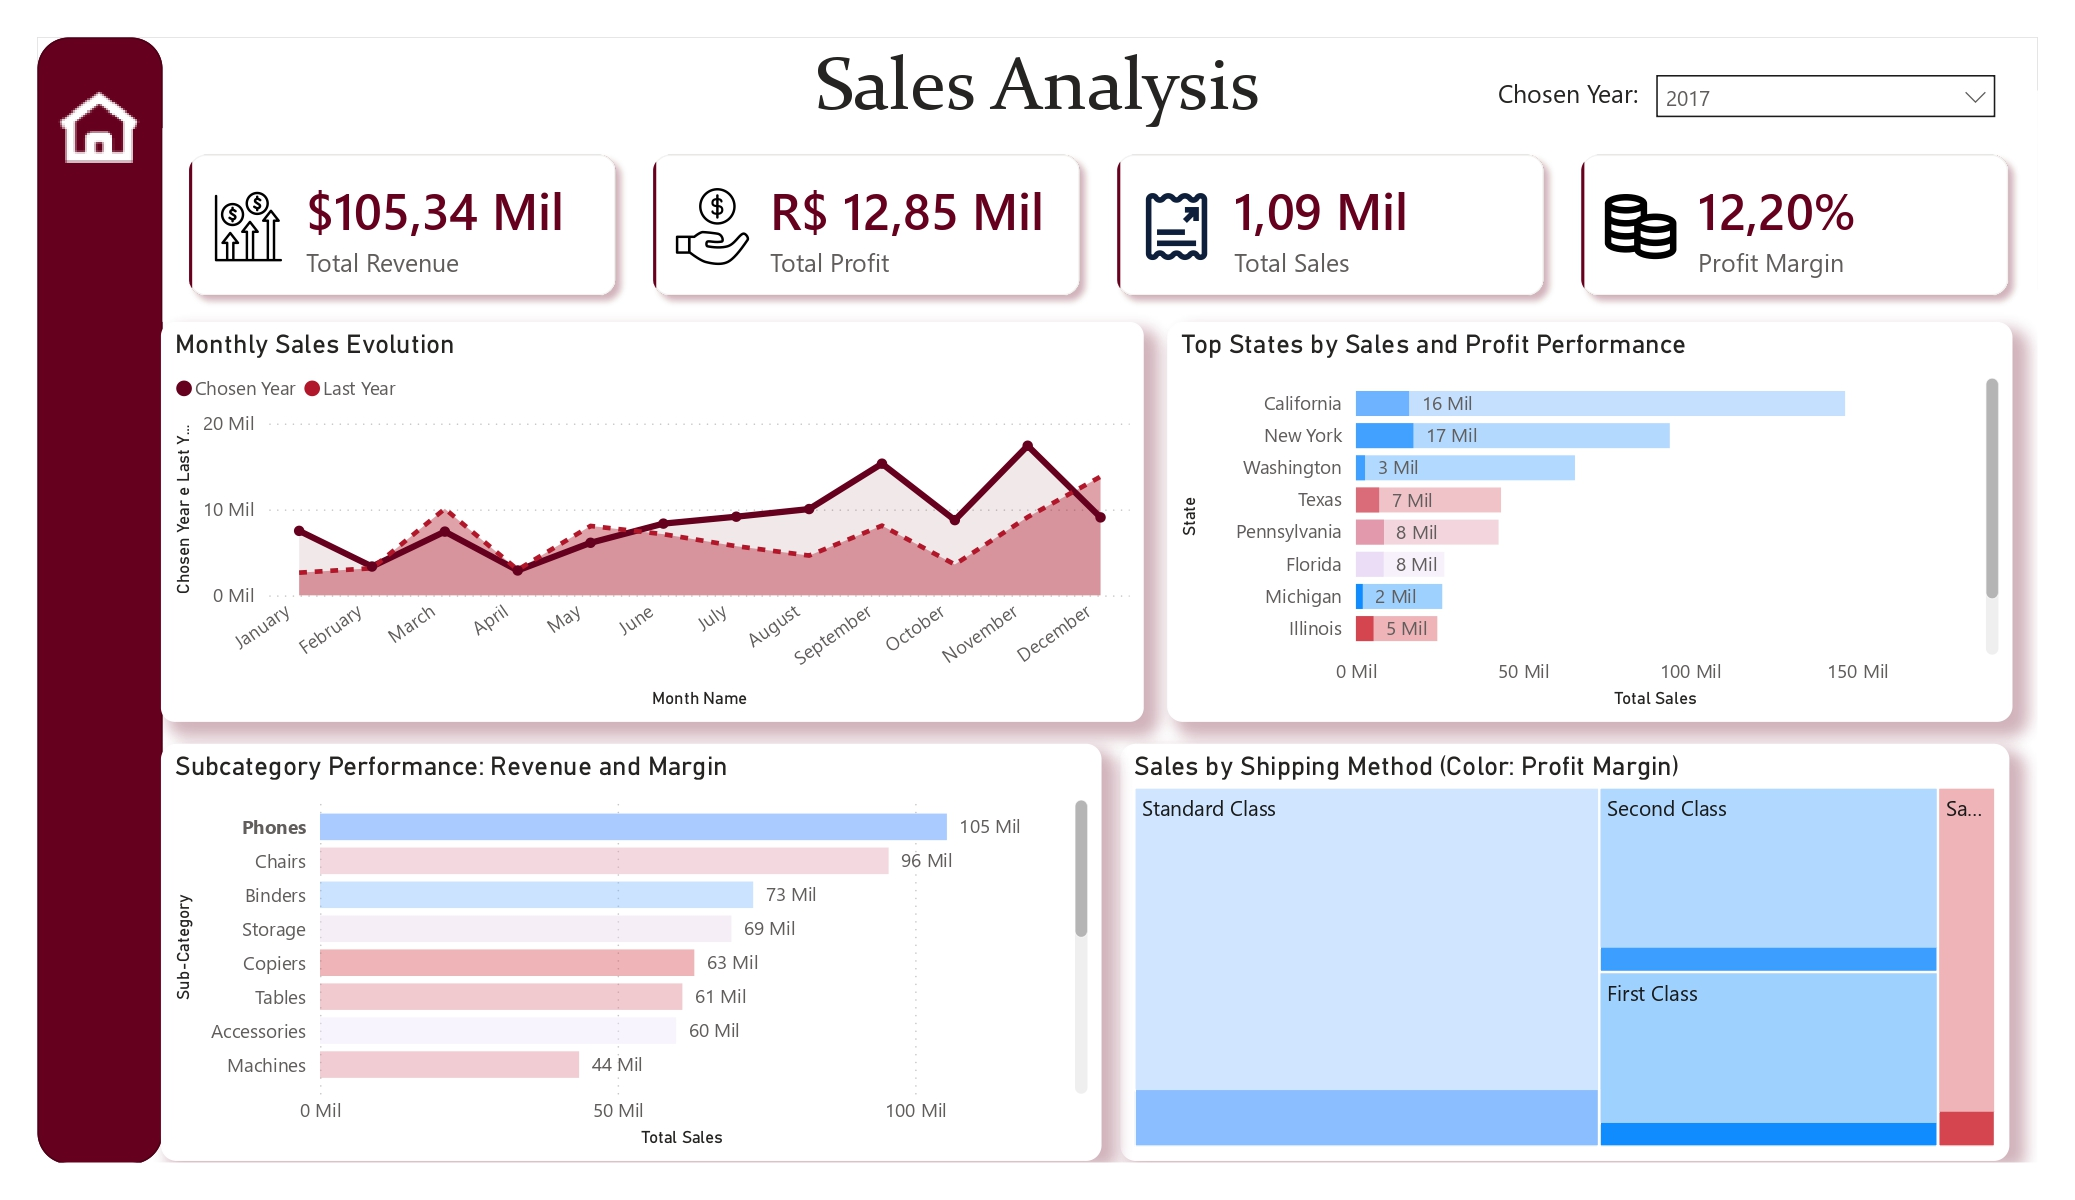

The page's visual inventory and layout, read from the dashboard file:
{"tool":"powerbi","page":{"name":"Página 1","canvas":[1280,720],"ordinal":0},"visuals":[{"type":"textbox","box":[0,0,1280.3,68],"z":0},{"type":"shape","box":[0,0,79.9,720.8],"z":1000},{"type":"cardVisual","fields":{"Data":["_Medidas.Total Sales","_Medidas.Total Profit","_Medidas.Total Quantity","_Medidas.Profit Margin"]},"box":[79.9,57.9,1200.3,124],"z":2000},{"type":"lineChart","title":"Monthly Sales Evolution","fields":{"Category":["dCalendario.Month Name"],"Y":["_Medidas.Total Sales","_Medidas.Sales LY"]},"box":[79.4,182.1,628.5,256.1],"z":3000},{"type":"slicer","title":"Chosen Year","fields":{"Values":["dCalendario.year"]},"box":[1026.3,13.7,236.4,41.1],"z":4000},{"type":"clusteredBarChart","title":" Subcategory Performance: Revenue and Margin","fields":{"Category":["dProducts3.Sub-Category"],"Y":["_Medidas.Total Sales"]},"box":[79.4,451.9,601.1,267],"z":5000},{"type":"actionButton","box":[6.2,23.6,67.2,68.4],"z":6000},{"type":"barChart","title":" Top  States by Sales and Profit Performance","fields":{"Category":["dGeography2.State"],"Y":["_Medidas.Total Sales"]},"box":[723,182.1,540.9,256.1],"z":7000},{"type":"treemap","title":"Sales by Shipping Method (Color: Profit Margin)","fields":{"Group":["fSales1.Ship Mode"],"Values":["_Medidas.Total Sales"]},"box":[692.9,451.9,569.6,267],"z":8000},{"type":"textbox","box":[926.7,19.9,105.7,39.8],"z":9000}]}

Visuals, with their boxes in screenshot pixels (x1, y1, x2, y2):
textbox: (x1=32, y1=103, x2=2007, y2=208)
shape: (x1=32, y1=103, x2=156, y2=1199)
cardVisual - _Medidas.Total Sales x _Medidas.Total Profit: (x1=156, y1=192, x2=2007, y2=383)
"Monthly Sales Evolution" lineChart: (x1=155, y1=383, x2=1124, y2=778)
"Chosen Year" slicer: (x1=1615, y1=124, x2=1980, y2=187)
" Subcategory Performance: Revenue and Margin" clusteredBarChart: (x1=155, y1=800, x2=1082, y2=1199)
actionButton: (x1=42, y1=139, x2=146, y2=245)
" Top  States by Sales and Profit Performance" barChart: (x1=1147, y1=383, x2=1981, y2=778)
"Sales by Shipping Method (Color: Profit Margin)" treemap: (x1=1101, y1=800, x2=1979, y2=1199)
textbox: (x1=1461, y1=133, x2=1624, y2=195)
